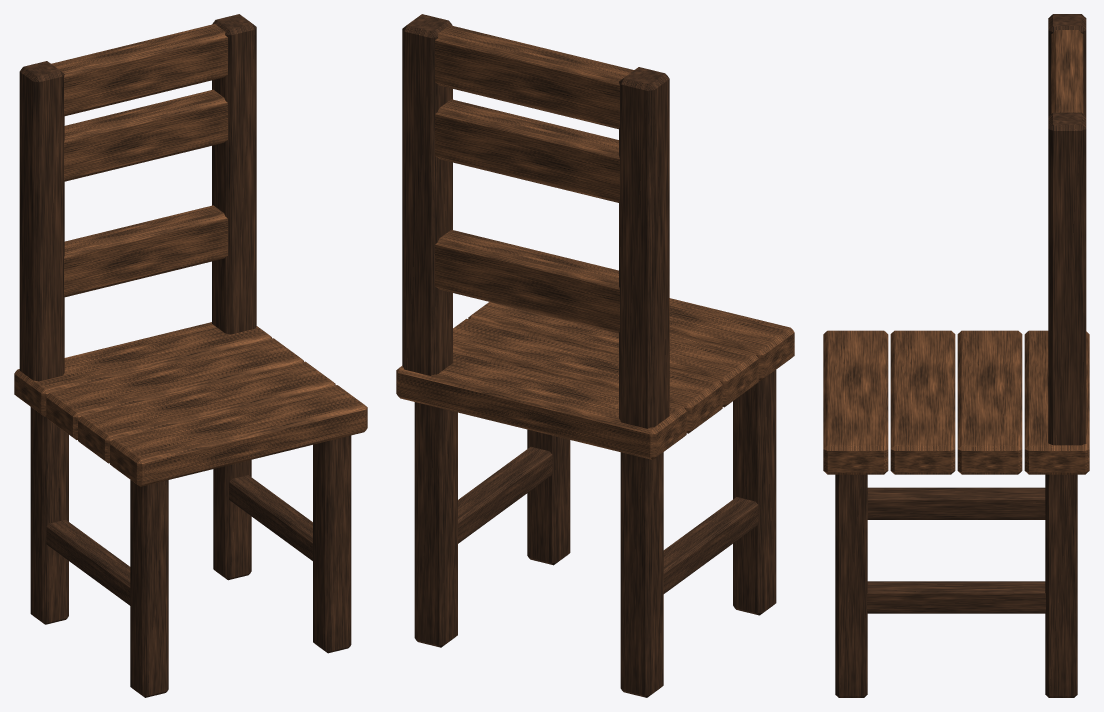
The model's file is chair_wooden.glb.
The picture shows the model from 3 angles, left to right: view 1: azimuth 30°, elevation 25°; view 2: azimuth 150°, elevation 25°; view 3: azimuth 270°, elevation 25°; orthographic projection. The views are drawn at different scales.
Visible parts, largest first — view 1: oak, oak_dark; view 2: oak_dark, oak; view 3: oak_dark, oak.
Part boxes in pixels (bbox=[...]): oak: bbox=[14, 24, 367, 486]; oak_dark: bbox=[19, 14, 351, 697]; oak_dark: bbox=[402, 14, 776, 697]; oak: bbox=[396, 25, 794, 459]; oak_dark: bbox=[835, 14, 1086, 697]; oak: bbox=[823, 30, 1089, 474].
Bounding box in the file's own units: 0.48 × 1.09 × 0.456.
2 materials, 2 textured.
